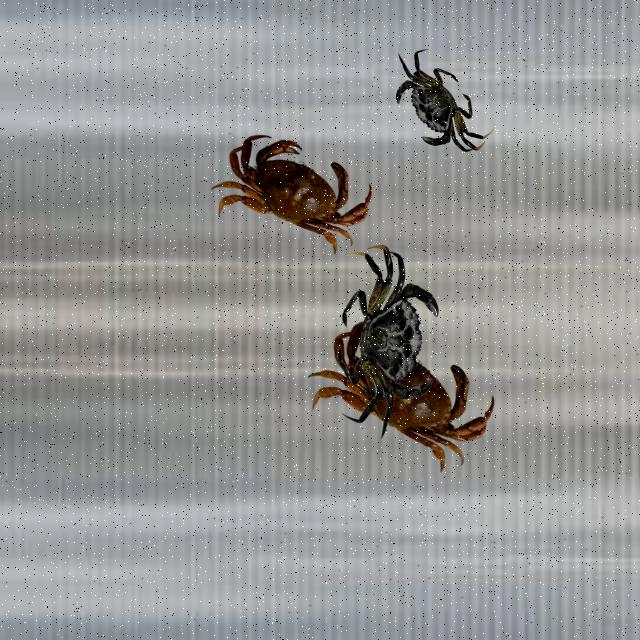European_Green_Crab: (331, 242, 443, 443), (374, 32, 499, 173)
